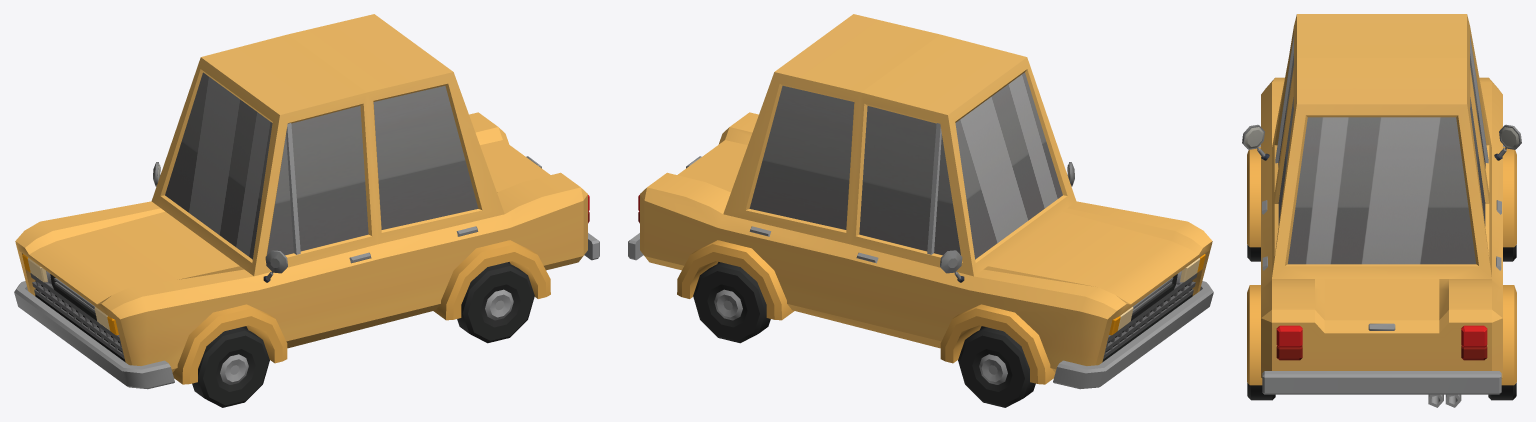
The model's file is Car_4_1_D.gltf.
The picture shows the model from 3 angles, left to right: view 1: azimuth 30°, elevation 25°; view 2: azimuth 150°, elevation 25°; view 3: azimuth 270°, elevation 25°; orthographic projection. The views are drawn at different scales.
Visible parts, largest first — view 1: Car_4_1_D, RL, FL; view 2: Car_4_1_D, RR, FR; view 3: Car_4_1_D, RL, RR.
Boxes of the visible parts, <box> form: Car_4_1_D: <box>14,14,599,389</box>; RL: <box>457,262,534,343</box>; FL: <box>192,327,269,407</box>; Car_4_1_D: <box>628,14,1213,389</box>; RR: <box>693,262,770,343</box>; FR: <box>958,327,1035,407</box>; Car_4_1_D: <box>1242,14,1521,407</box>; RL: <box>1247,383,1275,400</box>; RR: <box>1488,383,1516,400</box>.
Bounding box in the file's own units: 3.53 × 1.81 × 1.65.
4 materials, 4 textured.
